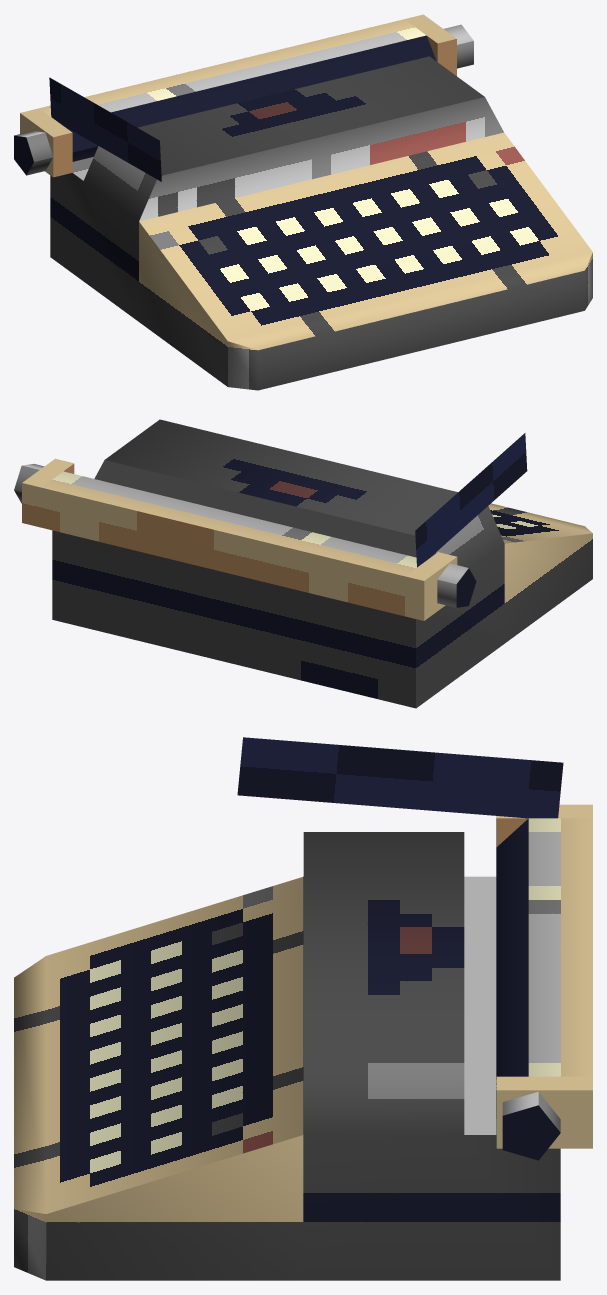
File: SM_Typewriter.fbx
3 views of the same model, one above another, from view 1: azimuth 30°, elevation 25°; view 2: azimuth 150°, elevation 25°; view 3: azimuth 270°, elevation 25° (orthographic). The views are drawn at different scales.
Parts seen in each view (by area): view 1: Typewriter.001; view 2: Typewriter.001; view 3: Typewriter.001.
Part boxes in pixels (x1,y1,x2,y2): Typewriter.001: (14,14,592,390); Typewriter.001: (14,419,592,708); Typewriter.001: (14,737,592,1280).
Bounding box in the file's own units: 71.88 × 32.22 × 56.25.
